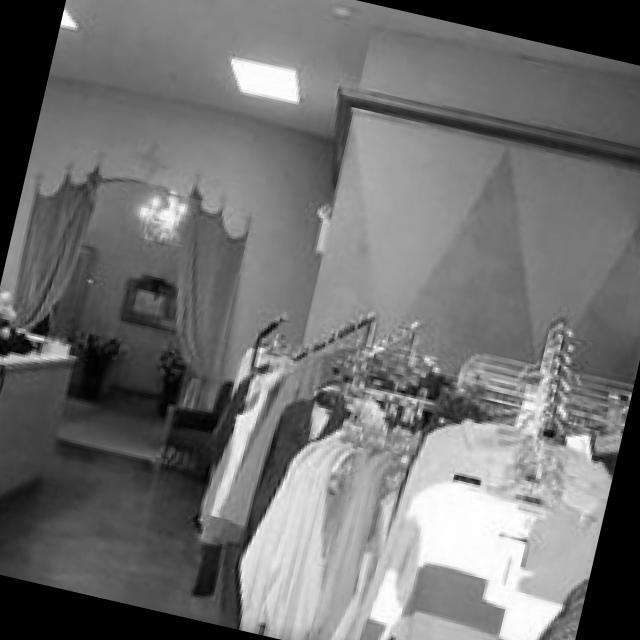armchair of dentist: (155, 377, 235, 474)
ceiling beam: (51, 0, 640, 135)
clothes hamper: (340, 413, 608, 640), (193, 342, 353, 622), (235, 420, 413, 640)
clothes washer: (526, 312, 570, 477), (275, 302, 375, 358), (347, 314, 416, 389)
counter bottom: (0, 317, 70, 495)
curtain crop: (8, 152, 113, 329), (174, 171, 245, 410)
door opening: (41, 241, 94, 351)
floor -X: (0, 369, 591, 640)
flowers in pot: (81, 318, 125, 352)
lamp crop: (228, 52, 297, 99)
lamp part: (134, 193, 181, 237)
pot hanger: (75, 347, 105, 394)
wall clock: (263, 25, 640, 545), (0, 72, 332, 448), (70, 174, 190, 403)
